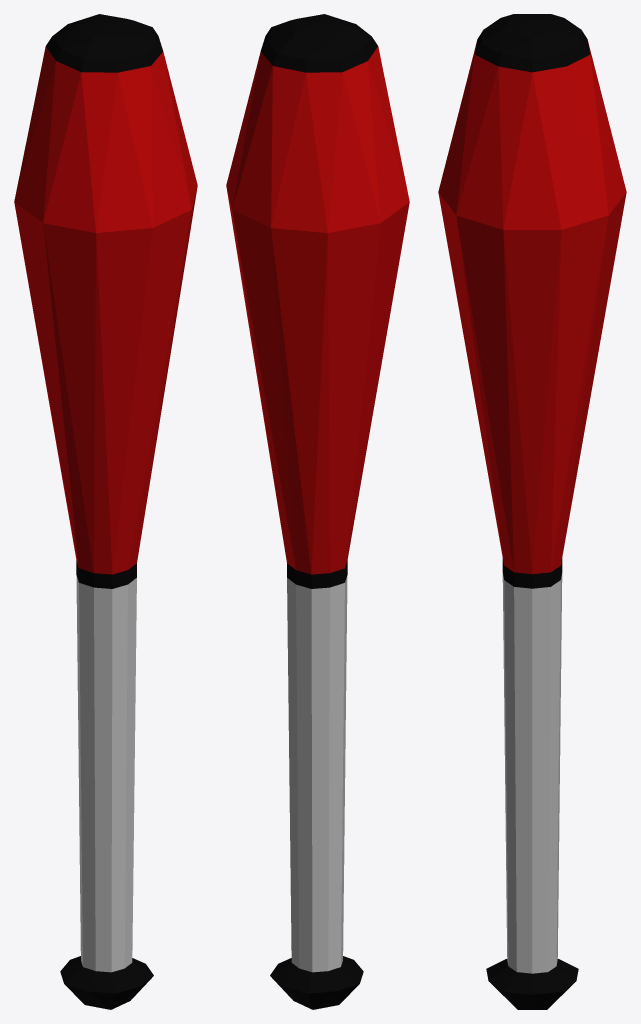
Rendered from juggling_club.obj.
3 views of the same model, side by side, from view 1: azimuth 30°, elevation 25°; view 2: azimuth 150°, elevation 25°; view 3: azimuth 270°, elevation 25° (orthographic).
Parts seen in each view (by area): view 1: Club_2, Club_0, Club_1; view 2: Club_2, Club_0, Club_1; view 3: Club_2, Club_0, Club_1.
Part boxes in pixels (x1,y1,x2,y2): Club_2: (14, 46, 197, 574); Club_0: (76, 576, 136, 972); Club_1: (46, 14, 163, 1009); Club_2: (226, 46, 409, 574); Club_0: (287, 576, 347, 972); Club_1: (260, 14, 377, 1009); Club_2: (438, 41, 626, 574); Club_0: (502, 573, 562, 973); Club_1: (474, 14, 590, 1009).
Size of the model in its own units: 1.9 by 11.56 by 2.
